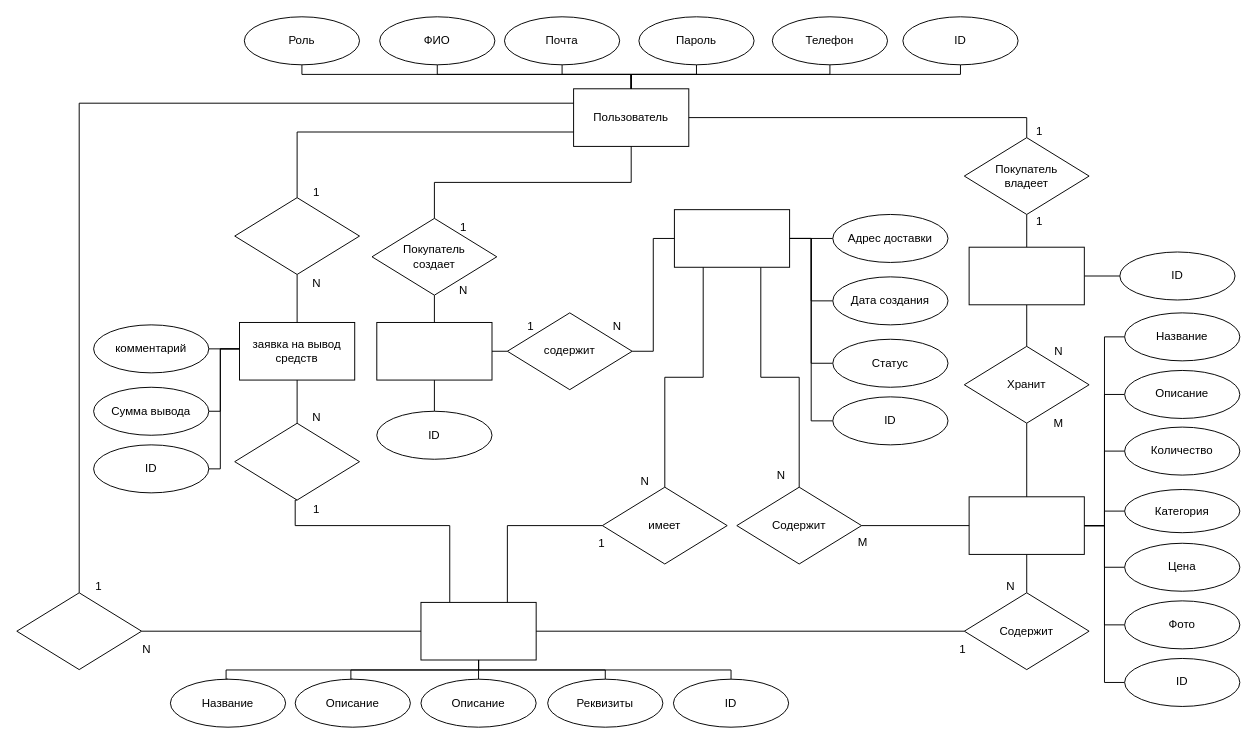
Image size: 1257x744. Some labels were removed from this diagram. Here are the shapes that lost their labels. From the top down, the centre of each, then its label:
At point (297, 235): "Модератор управляет".
At point (731, 238): "Заказ магазина".
At point (1026, 275): "Корзина".
At point (434, 351): "Заказ покупателя".
At point (297, 461): "Создает".
At point (1026, 525): "Товар".
At point (79, 631): "Продавец Владеет".
At point (478, 630): "Магазин".
